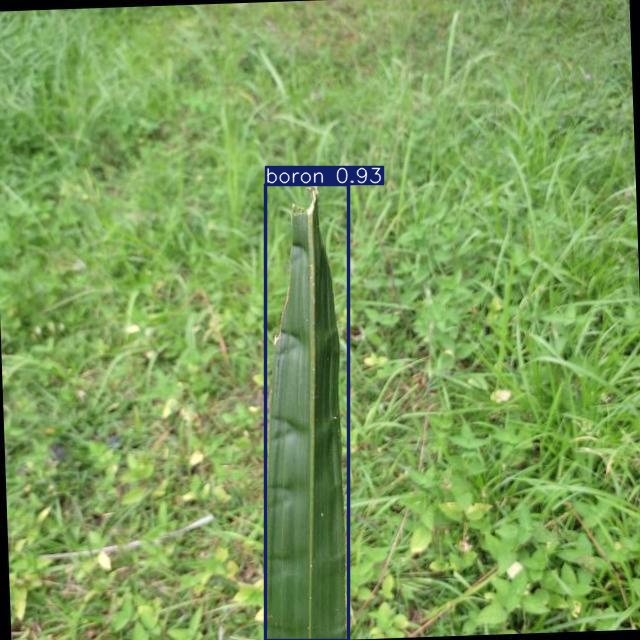nitrogen: (265, 184, 348, 640)
